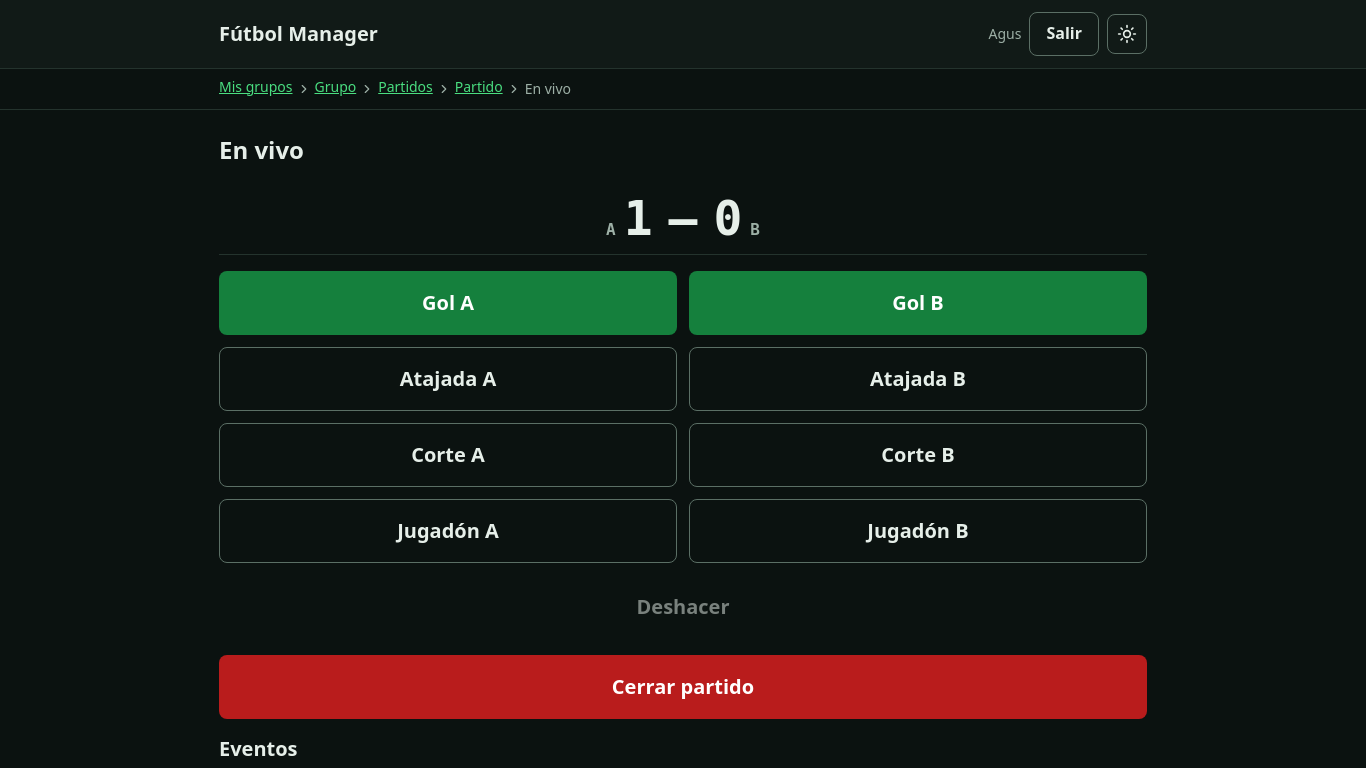
Test: LivePage › Atajada A lista a todo el lineup del equipo A sin preseleccionar y exige elegir
What coordinates should you click on to do the following:
click the button "Atajada A"
I would click on:
 (448, 379)
Its box is [219,347,677,411].
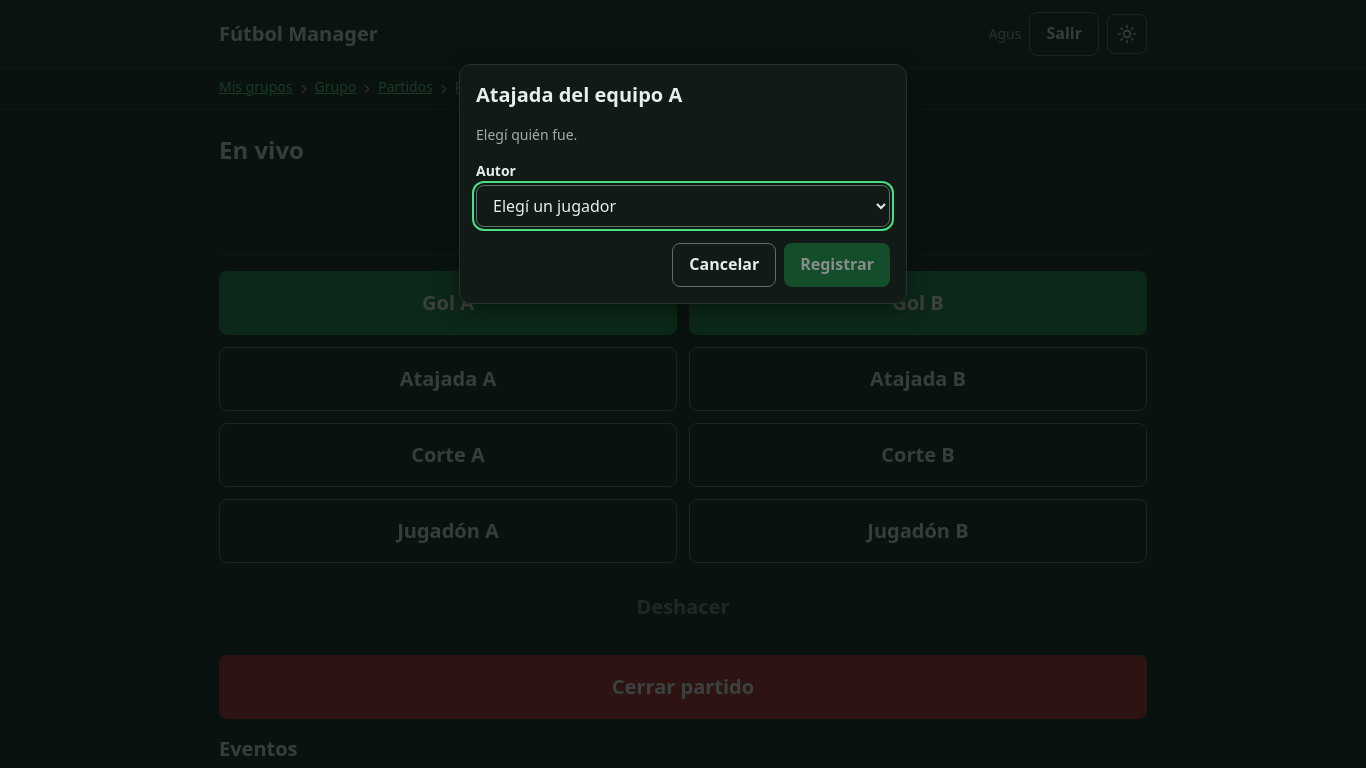
Check: the dropdown labelled "Autor" shows "Elegí un jugador", box [476,185,890,227]
Check: the button "Registrar" is disabled, box [784,243,890,287]
